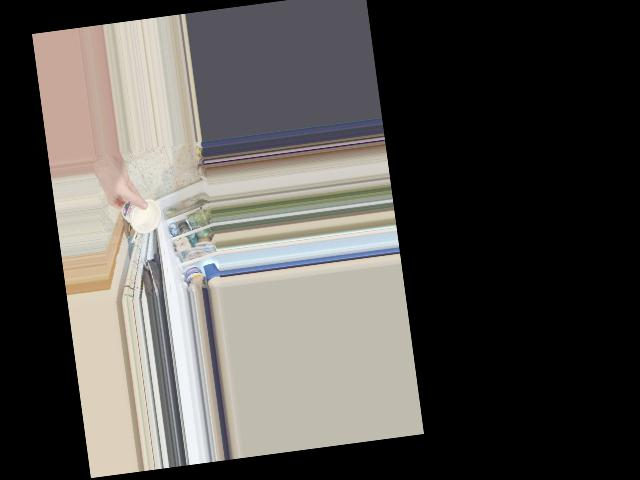cotage: (117, 193, 162, 238)
